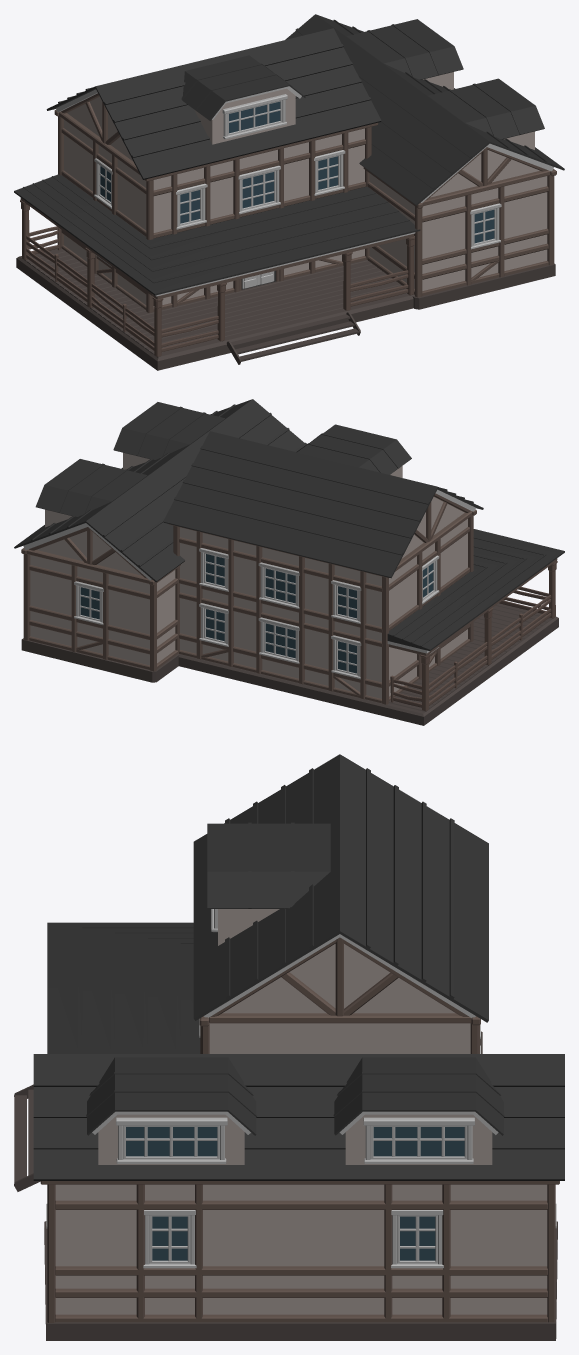
Rendered from house_12.glb.
The picture shows the model from 3 angles, top to bottom: view 1: azimuth 30°, elevation 25°; view 2: azimuth 150°, elevation 25°; view 3: azimuth 270°, elevation 25°; orthographic projection. The views are drawn at different scales.
Visible parts, largest first — view 1: house_12; view 2: house_12; view 3: house_12.
Boxes of the visible parts, x1,y1,x2,y2 form: house_12: [14, 14, 564, 370]; house_12: [14, 399, 564, 725]; house_12: [14, 754, 564, 1340].
Bounding box in the file's own units: 18.67 × 9.25 × 14.42.
Materials: 1 (1 with a texture image).
